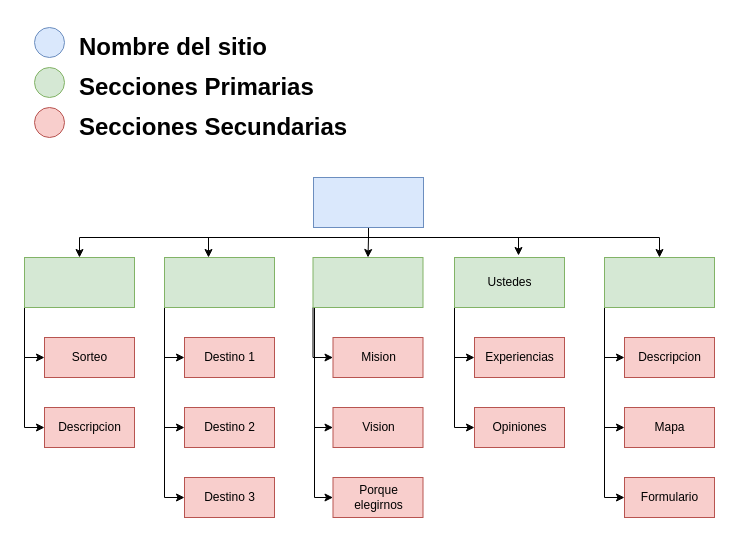
The diagram is 732 pixels wide and 535 high, and some of its shapes have lost their labels. The shapes that lost their labels are listed below. From the top down, each one's centre as x and y in pixels, then its label:
At point 368,202: "Proyecto Eco Travel".
At point 79,282: "Inicio".
At point 219,282: "Destinos".
At point 367,282: "Nosotros".
At point 659,282: "Contacto".
